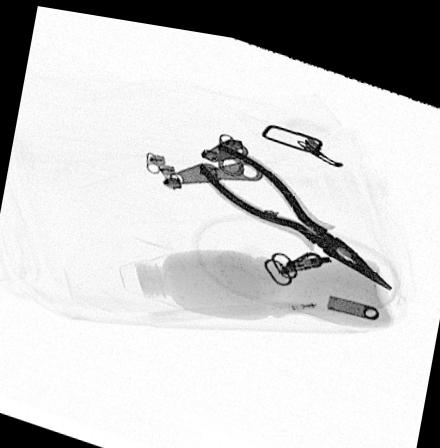Pliers: (193, 131, 395, 277)
